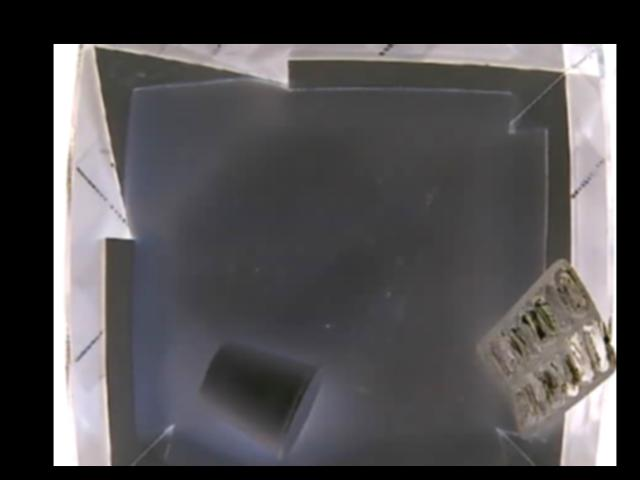Battery: (475, 257, 614, 437)
Cup: (197, 340, 319, 455)
